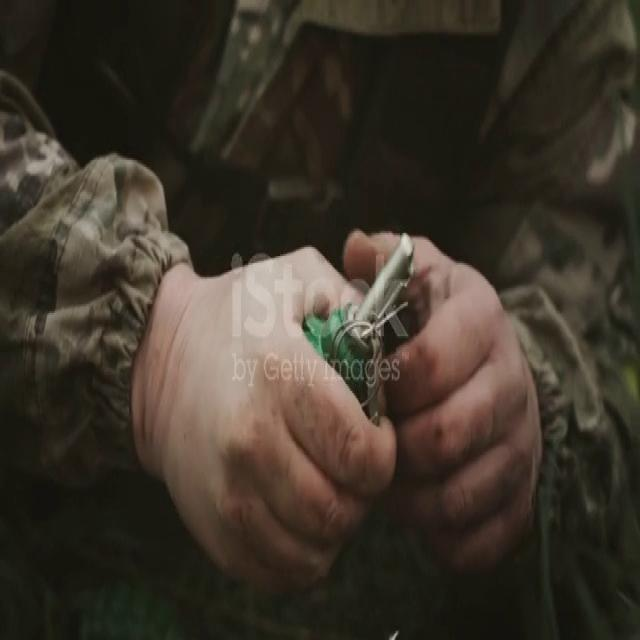grenade: (312, 223, 417, 417)
